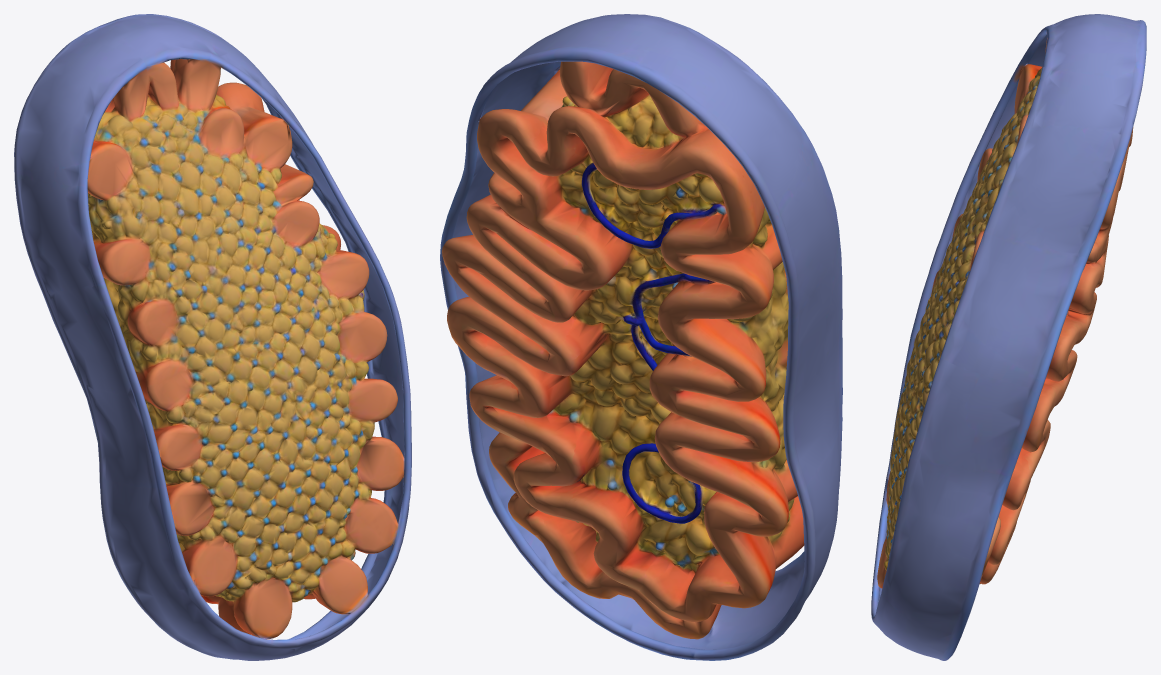
3 renders of one model, left to right at view 1: azimuth 30°, elevation 25°; view 2: azimuth 150°, elevation 25°; view 3: azimuth 270°, elevation 25°, orthographic. The views are drawn at different scales.
Parts seen in each view (by area): view 1: tripo_node_fb5bc246-e287-4a2f-a861-48be91a2466b; view 2: tripo_node_fb5bc246-e287-4a2f-a861-48be91a2466b; view 3: tripo_node_fb5bc246-e287-4a2f-a861-48be91a2466b.
Part boxes in pixels (box(x1,y1,x2,y2)): tripo_node_fb5bc246-e287-4a2f-a861-48be91a2466b: box(14, 14, 411, 660); tripo_node_fb5bc246-e287-4a2f-a861-48be91a2466b: box(440, 14, 842, 660); tripo_node_fb5bc246-e287-4a2f-a861-48be91a2466b: box(871, 14, 1146, 660).
Bounding box in the file's own units: 0.5667 × 0.9996 × 0.4186.
1 material, 1 textured.
